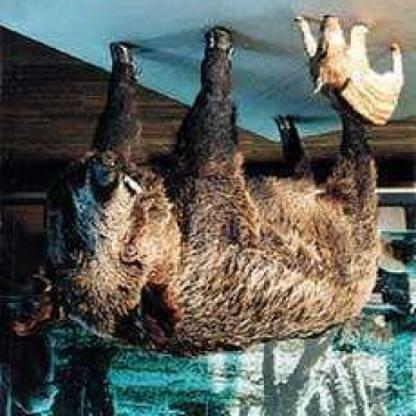boar: (9, 69, 343, 382), (292, 15, 402, 139)
